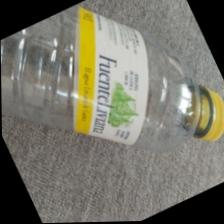plastic: (1, 0, 223, 223)
